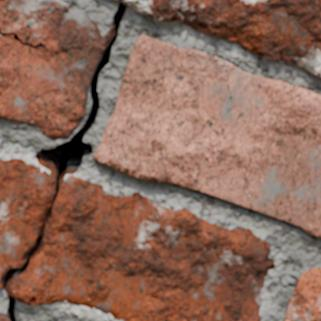brick: (95, 35, 320, 237), (0, 0, 110, 138), (285, 268, 320, 320), (0, 313, 8, 320)
broken_brick: (9, 176, 275, 320), (123, 0, 320, 79), (0, 157, 53, 275)
crack: (0, 0, 127, 320)
